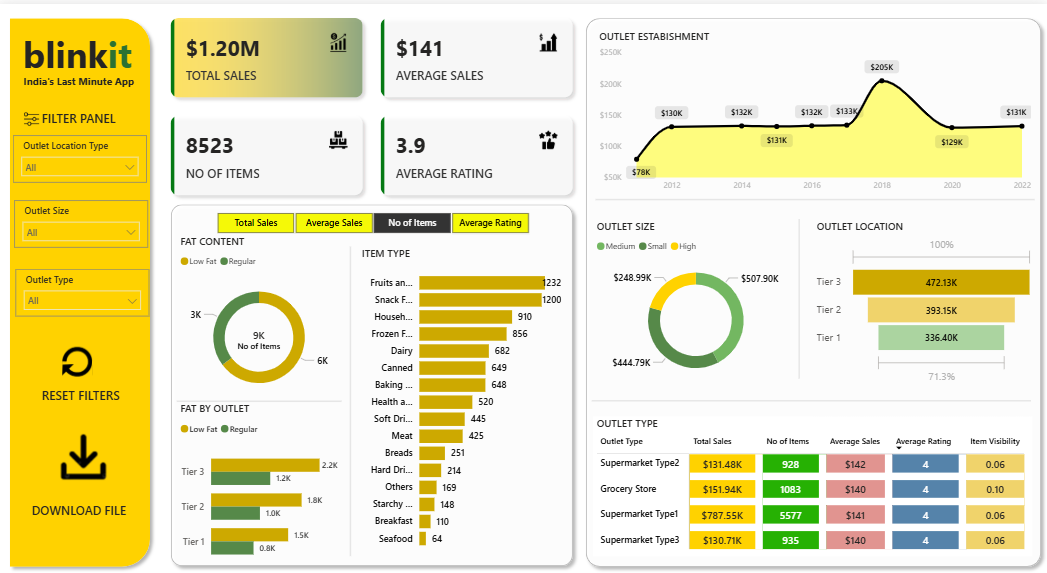

What the dashboard file says about the page in this screenshot:
{"tool":"powerbi","page":{"name":"Page 1","canvas":[1400,800],"ordinal":0},"visuals":[{"type":"shape","box":[6.7,9.4,205.1,749.3],"z":0},{"type":"textbox","box":[28.5,28.5,168.1,84],"z":1000},{"type":"textbox","box":[28.5,88.6,159.1,48],"z":2000},{"type":"cardVisual","fields":{"Data":["BlinkIT Grocery Data.Total Sales","BlinkIT Grocery Data.Average Sales","BlinkIT Grocery Data.No of Items","BlinkIT Grocery Data.Average Rating"]},"box":[213.1,1.3,571,270.8],"z":3000},{"type":"shape","box":[221.2,258.7,553.6,500],"z":4000},{"type":"donutChart","title":"FAT CONTENT","fields":{"Y":["BlinkIT Grocery Data.No of Items"],"Category":["BlinkIT Grocery Data.Item Fat Content"]},"box":[238.6,307,219.8,230.6],"z":5000},{"type":"slicer","fields":{"Values":["Metrics.Metrics"]},"box":[266.8,272.1,465.1,40.2],"z":6000},{"type":"cardVisual","fields":{"Data":["BlinkIT Grocery Data.No of Items"]},"box":[292.2,415.6,112.6,59],"z":7000},{"type":"clusteredBarChart","title":"FAT BY OUTLET","fields":{"Y":["BlinkIT Grocery Data.No of Items"],"Category":["BlinkIT Grocery Data.Outlet Location Type"],"Series":["BlinkIT Grocery Data.Item Fat Content"]},"box":[238.6,529.5,219.8,229.2],"z":8000},{"type":"shape","box":[238.6,521.5,219.8,16.1],"z":9000},{"type":"shape","box":[359.3,323.1,219.8,412.9],"z":10000},{"type":"barChart","title":"ITEM TYPE","fields":{"Y":["BlinkIT Grocery Data.No of Items"],"Category":["BlinkIT Grocery Data.Item Type"]},"box":[479.9,323.1,276.1,412.9],"z":11000},{"type":"shape","box":[774.8,9.4,624.7,749.3],"z":12000},{"type":"lineChart","title":"OUTLET ESTABISHMENT","fields":{"Y":["BlinkIT Grocery Data.Total Sales"],"Category":["BlinkIT Grocery Data.Outlet Establishment Year"]},"box":[796.3,33.5,585.8,225.2],"z":13000},{"type":"shape","box":[796.3,250.7,585.8,21.4],"z":14000},{"type":"donutChart","title":"OUTLET SIZE","fields":{"Y":["BlinkIT Grocery Data.Total Sales"],"Category":["BlinkIT Grocery Data.Outlet Size"]},"box":[793.6,286.9,274.8,225.2],"z":15000},{"type":"shape","box":[958.5,286.9,219.8,213.1],"z":16000},{"type":"funnel","title":"OUTLET LOCATION","fields":{"Y":["Sum(BlinkIT Grocery Data.Sales)"],"Category":["BlinkIT Grocery Data.Outlet Location Type"]},"box":[1087.1,286.9,298.9,225.2],"z":17000},{"type":"shape","box":[790.9,518.8,585.8,21.4],"z":18000},{"type":"pivotTable","title":"OUTLET TYPE","fields":{"Rows":["BlinkIT Grocery Data.Outlet Type"],"Values":["BlinkIT Grocery Data.Total Sales","BlinkIT Grocery Data.No of Items","BlinkIT Grocery Data.Average Sales","BlinkIT Grocery Data.Average Rating","Avg(BlinkIT Grocery Data.Item Visibility)"]},"box":[793.6,549.6,585.8,186.3],"z":19000},{"type":"slicer","fields":{"Values":["BlinkIT Grocery Data.Outlet Location Type"]},"box":[20.1,175.6,178.3,63],"z":20000},{"type":"slicer","fields":{"Values":["BlinkIT Grocery Data.Outlet Size"]},"box":[21.4,261.4,178.3,63],"z":21000},{"type":"slicer","fields":{"Values":["BlinkIT Grocery Data.Outlet Type"]},"box":[22.8,352.5,178.3,63],"z":22000},{"type":"textbox","box":[53.6,136.7,120.6,32.2],"z":23000},{"type":"actionButton","box":[76.7,445,63.3,63.3],"z":23002},{"type":"image","box":[20,135,50,36.7],"z":23003},{"type":"textbox","box":[53.3,505,120,35],"z":23004},{"type":"actionButton","box":[62.5,550,102.5,107.5],"z":23005},{"type":"textbox","box":[40,658.3,146.7,38.3],"z":23006}]}

Visuals, with their boxes on the page's 1400x800 design canvas (x1, y1, x2, y2). These are canvas units, not pixel positions in the 1047x573 screenshot, which may show the page scaled, cropped or inside an application window:
shape: left=7, top=9, right=212, bottom=759
textbox: left=28, top=28, right=197, bottom=112
textbox: left=28, top=89, right=188, bottom=137
cardVisual - BlinkIT Grocery Data.Total Sales x BlinkIT Grocery Data.Average Sales: left=213, top=1, right=784, bottom=272
shape: left=221, top=259, right=775, bottom=759
"FAT CONTENT" donutChart: left=239, top=307, right=458, bottom=538
slicer - Metrics.Metrics: left=267, top=272, right=732, bottom=312
cardVisual - BlinkIT Grocery Data.No of Items: left=292, top=416, right=405, bottom=475
"FAT BY OUTLET" clusteredBarChart: left=239, top=530, right=458, bottom=759
shape: left=239, top=522, right=458, bottom=538
shape: left=359, top=323, right=579, bottom=736
"ITEM TYPE" barChart: left=480, top=323, right=756, bottom=736
shape: left=775, top=9, right=1400, bottom=759
"OUTLET ESTABISHMENT" lineChart: left=796, top=34, right=1382, bottom=259
shape: left=796, top=251, right=1382, bottom=272
"OUTLET SIZE" donutChart: left=794, top=287, right=1068, bottom=512
shape: left=958, top=287, right=1178, bottom=500
"OUTLET LOCATION" funnel: left=1087, top=287, right=1386, bottom=512
shape: left=791, top=519, right=1377, bottom=540
"OUTLET TYPE" pivotTable: left=794, top=550, right=1379, bottom=736
slicer - BlinkIT Grocery Data.Outlet Location Type: left=20, top=176, right=198, bottom=239
slicer - BlinkIT Grocery Data.Outlet Size: left=21, top=261, right=200, bottom=324
slicer - BlinkIT Grocery Data.Outlet Type: left=23, top=352, right=201, bottom=416
textbox: left=54, top=137, right=174, bottom=169
actionButton: left=77, top=445, right=140, bottom=508
image: left=20, top=135, right=70, bottom=172
textbox: left=53, top=505, right=173, bottom=540
actionButton: left=62, top=550, right=165, bottom=658
textbox: left=40, top=658, right=187, bottom=697
